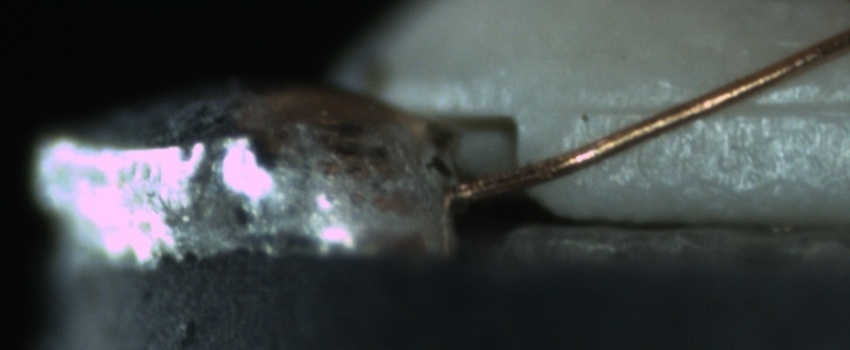DL: (569, 77, 843, 142)
